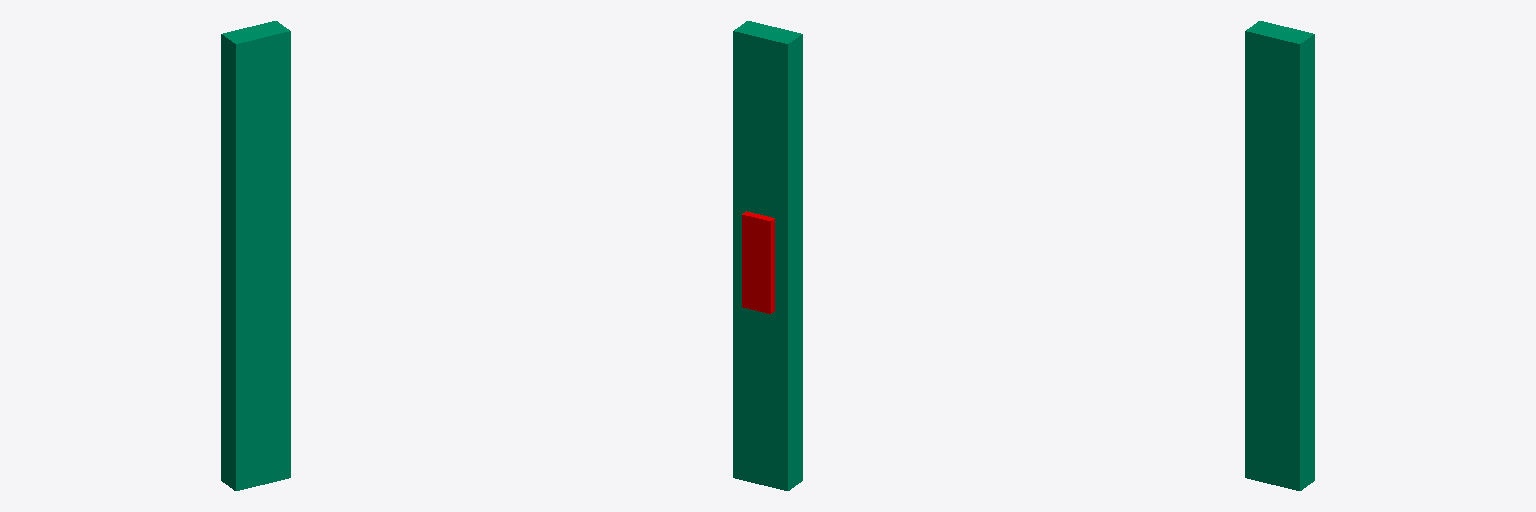
URDF robot description (knife):
<?xml version='1.0' encoding='utf-8'?>
<robot name="knife">
  <link name="base" /><joint name="joint_0" type="fixed"><origin xyz="0 0 0" rpy="0 0 0" /><parent link="base" /><child link="link_0" /></joint><link name="link_1">
    <visual name="link_1">
      <origin xyz="0 0.005556 0" rpy="0 0 0" />
      <geometry>
        <box size="0.009853438031403582 0.0025626598175387135 0.030484426686485707" /></geometry>
    <material name="red"><color rgba="1 0 0 1" /></material></visual>
    <collision>
      <origin xyz="0 0.005556 0" rpy="0 0 0" />
      <geometry>
        <box size="0.009853438031403582 0.0025626598175387135 0.030484426686485707" /></geometry>
    </collision>
    </link>
  <joint name="joint_1" type="prismatic">
    <origin xyz="0 0 0" />
    <axis xyz="0 0 1" />
    <child link="link_1" />
    <parent link="link_0" />
    <limit lower="-0.039998" upper="0.010002" effort="100.0" velocity="1.0" />
  </joint>
  <link name="link_0">
    <visual name="link_0">
      <origin xyz="0 0 0" />
      <geometry>
        <box size="0.018804234948000015 0.008549778910176505 0.14671406405659806" /></geometry>
    </visual>
    <collision>
      <origin xyz="0 0 0" />
      <geometry>
        <box size="0.018804234948000015 0.008549778910176505 0.14671406405659806" /></geometry>
    </collision>
    </link>
</robot>

--- What the picture shows (computed from the rendered views, not written in the file) ---
3 views of the same robot in one strip: view 1: azimuth 30°, elevation 25°; view 2: azimuth 150°, elevation 25°; view 3: azimuth 330°, elevation 25° (orthographic).
Robot: knife — 3 links, 2 joints (1 prismatic, 1 fixed); root link base; default pose: all joints at 0.
Visible links, largest first — view 1: link_0; view 2: link_0, link_1; view 3: link_0.
Link boxes in pixels (<box>): link_0: <box>221,21,290,490</box>; link_0: <box>733,21,802,490</box>; link_1: <box>742,211,774,313</box>; link_0: <box>1245,21,1314,490</box>.
Size in the robot's own frame: 0.0188 by 0.0111 by 0.1467 metres.
Geometry: primitives only (box / cylinder / sphere), no mesh files.
